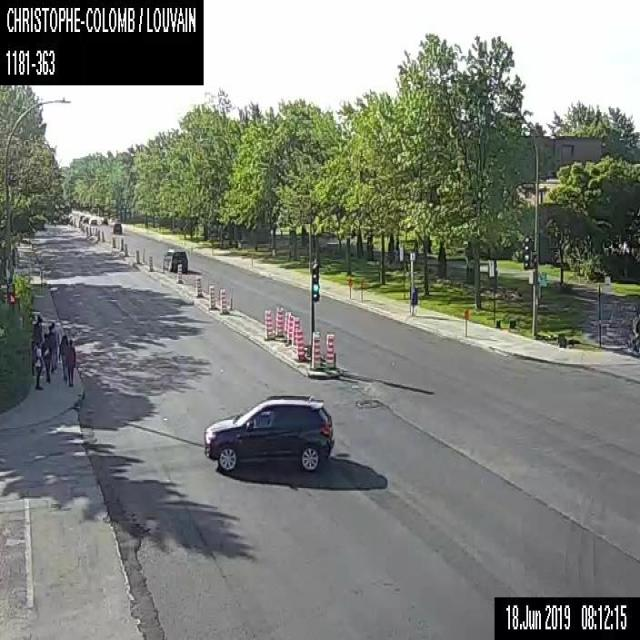construction: (309, 330, 323, 370), (325, 332, 335, 369), (296, 328, 306, 361), (274, 304, 284, 336), (264, 308, 274, 340), (282, 309, 290, 342), (218, 288, 228, 314), (208, 284, 218, 309), (292, 316, 299, 347), (287, 313, 294, 344), (194, 274, 203, 296), (463, 308, 469, 336), (175, 262, 183, 283), (358, 279, 363, 303), (147, 253, 153, 271), (348, 277, 352, 298), (134, 248, 139, 264), (122, 242, 126, 256), (120, 236, 124, 250), (90, 224, 94, 236), (96, 228, 100, 240), (112, 233, 115, 248), (101, 229, 104, 242), (93, 225, 96, 237), (88, 224, 91, 236)
pedestrian: (40, 331, 51, 382), (65, 338, 75, 387), (33, 313, 43, 362), (58, 333, 67, 382), (34, 341, 43, 390), (51, 321, 59, 368), (47, 324, 55, 370)
vehicle: (203, 392, 335, 471), (161, 248, 187, 272), (113, 222, 121, 234), (78, 212, 85, 220), (81, 215, 88, 222), (89, 217, 96, 224), (100, 217, 107, 224)
